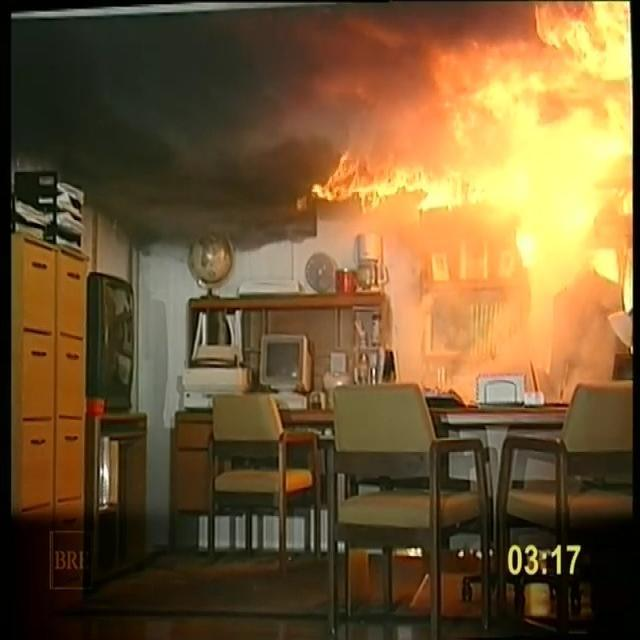Fire: (108, 7, 640, 346)
